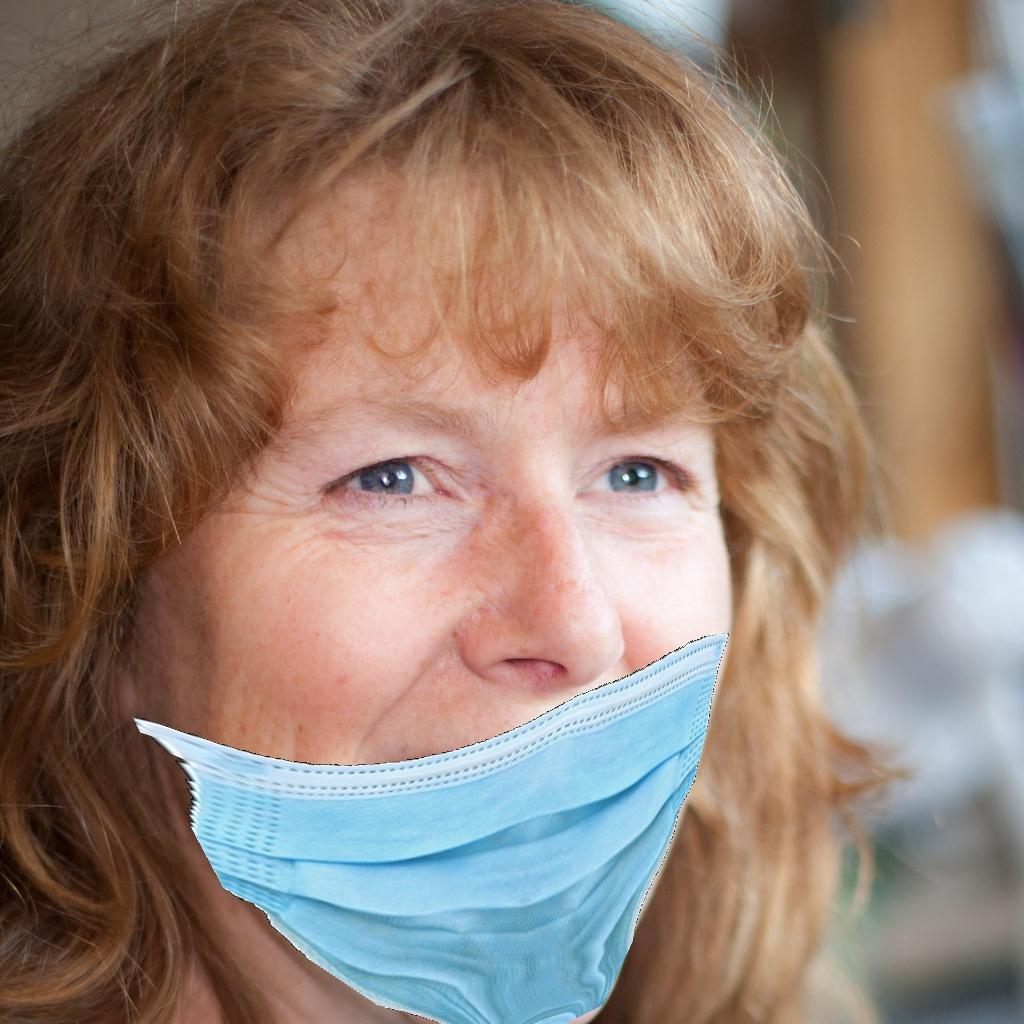Máscara Incorreta: (153, 336, 747, 976)
